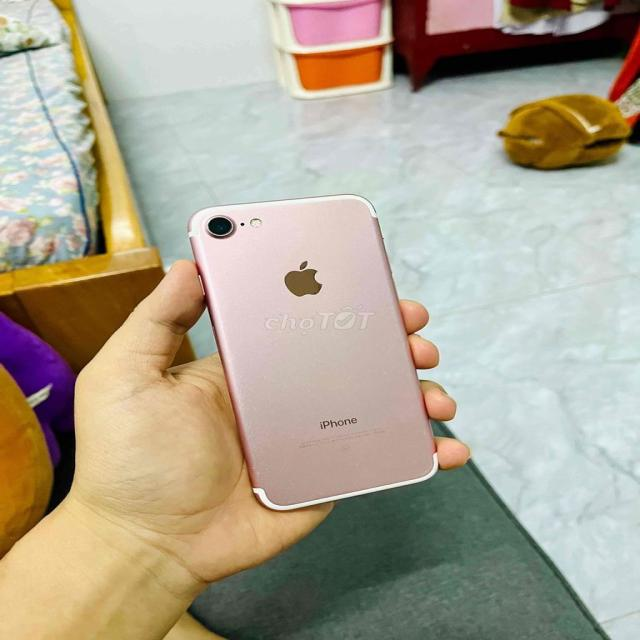gen_7_8: (180, 193, 455, 514)
